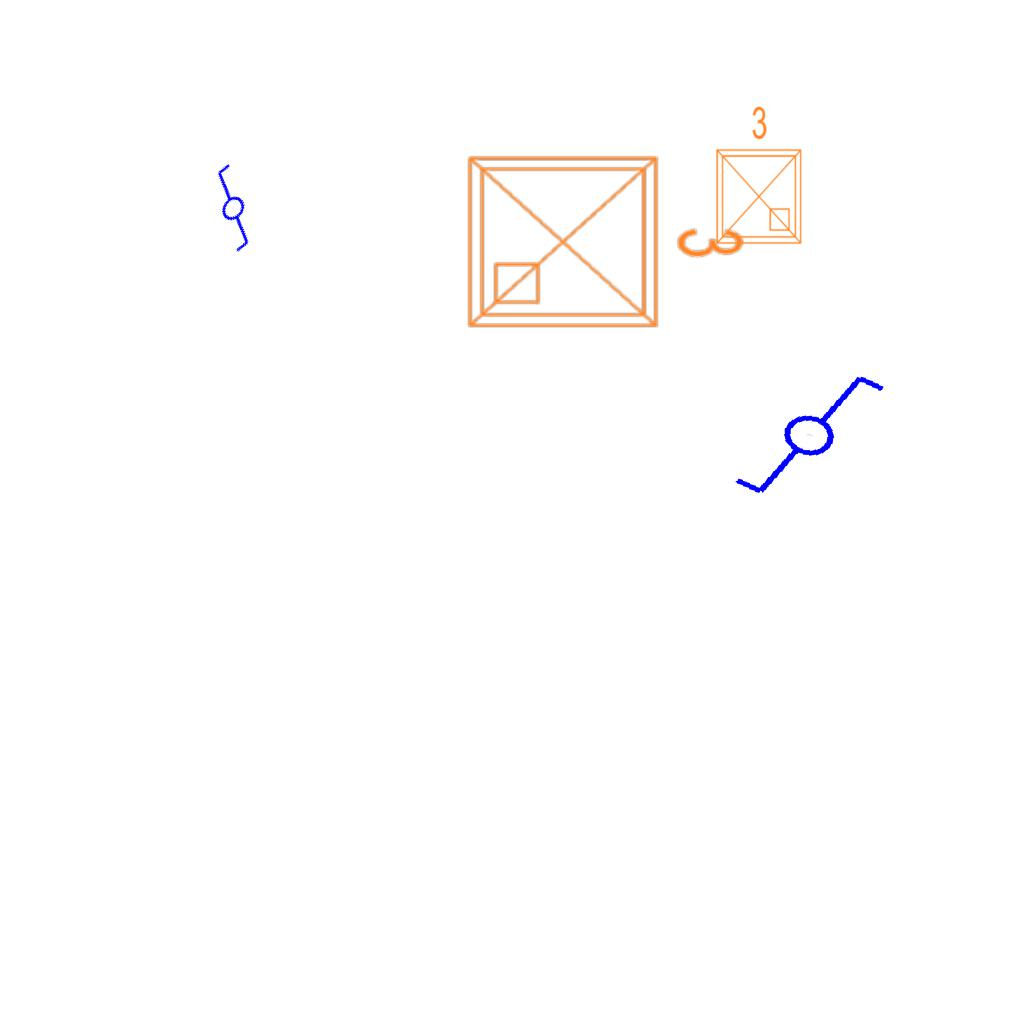Einbaudownlights_LED_Konferenzraeume: (454, 134, 754, 342), (705, 101, 809, 251)
Wechselschalter: (712, 348, 891, 516), (177, 158, 283, 264)
